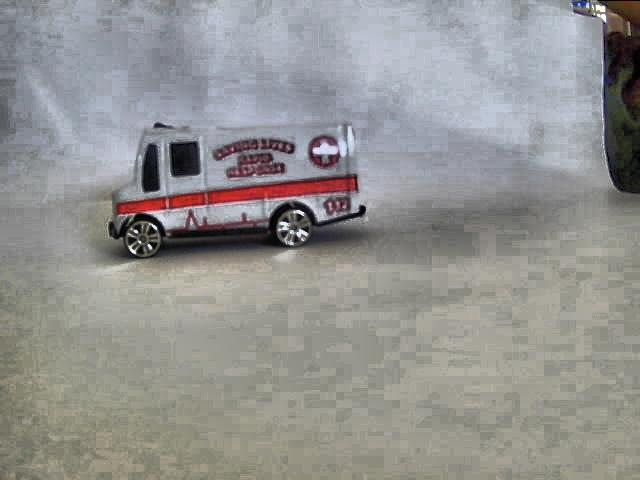ambulance: (107, 121, 366, 258)
